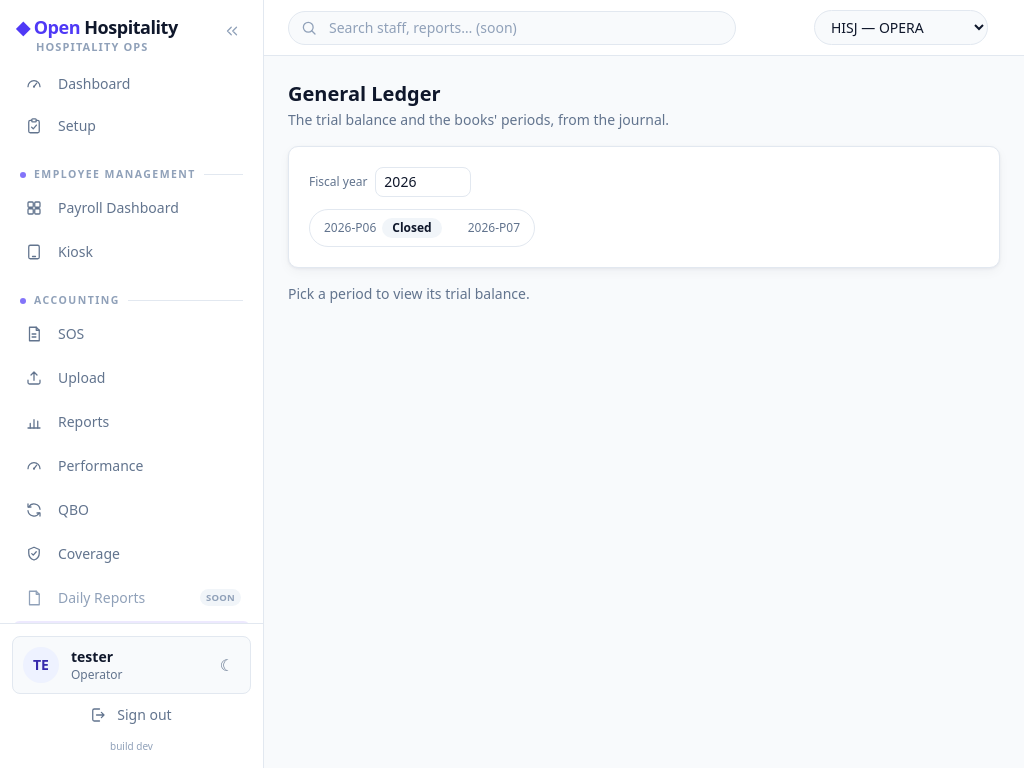
Test: GlPage › blur restores the committed year over an abandoned half-typed draft
Expected: the element named "Fiscal periods" is shown, [309,209,535,247]
Replace the text in the number field labelled "Fiscal year" with "20": (423, 182) [375,167,471,197]
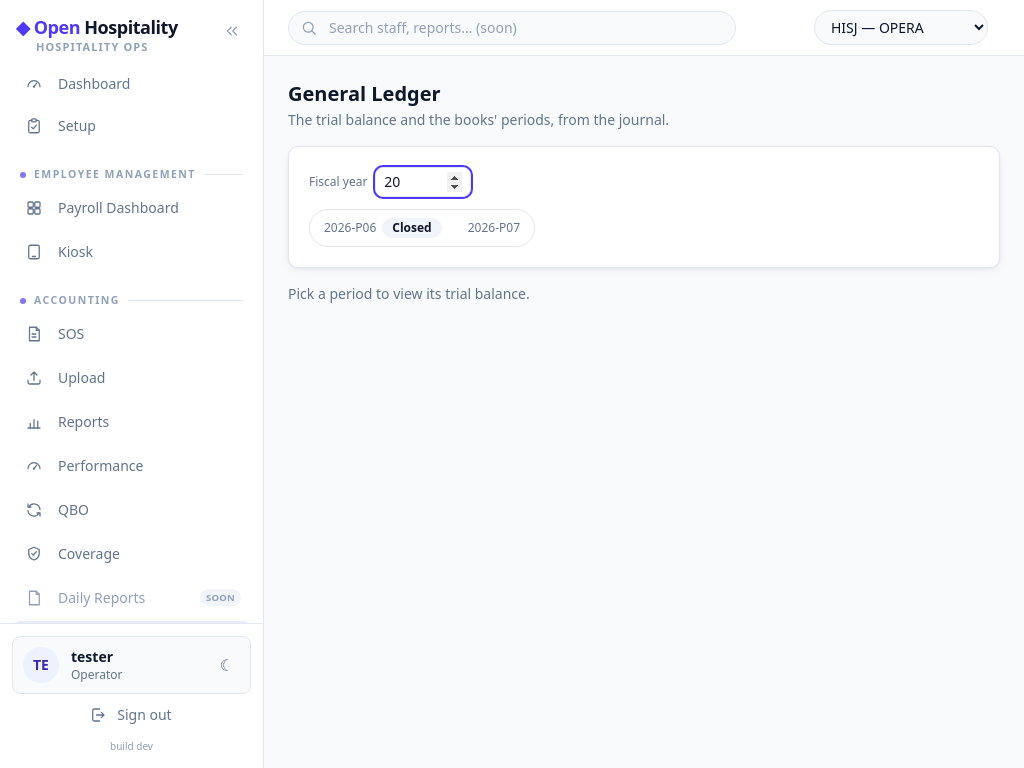
Press Tab
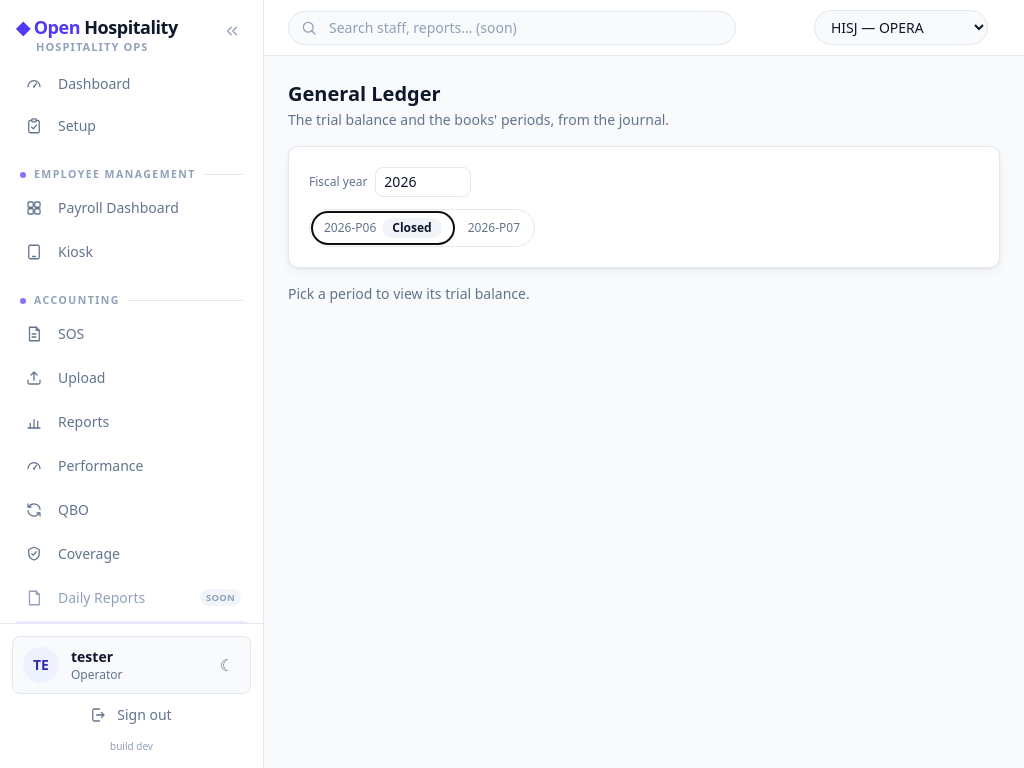
Expected: the number field labelled "Fiscal year" holds "2026", [375,167,471,197]
